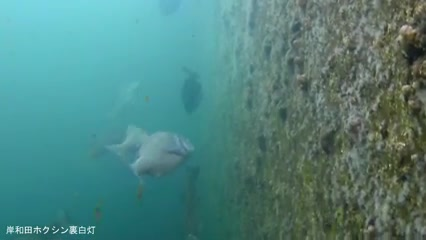smallfish: (122, 123, 198, 184)
